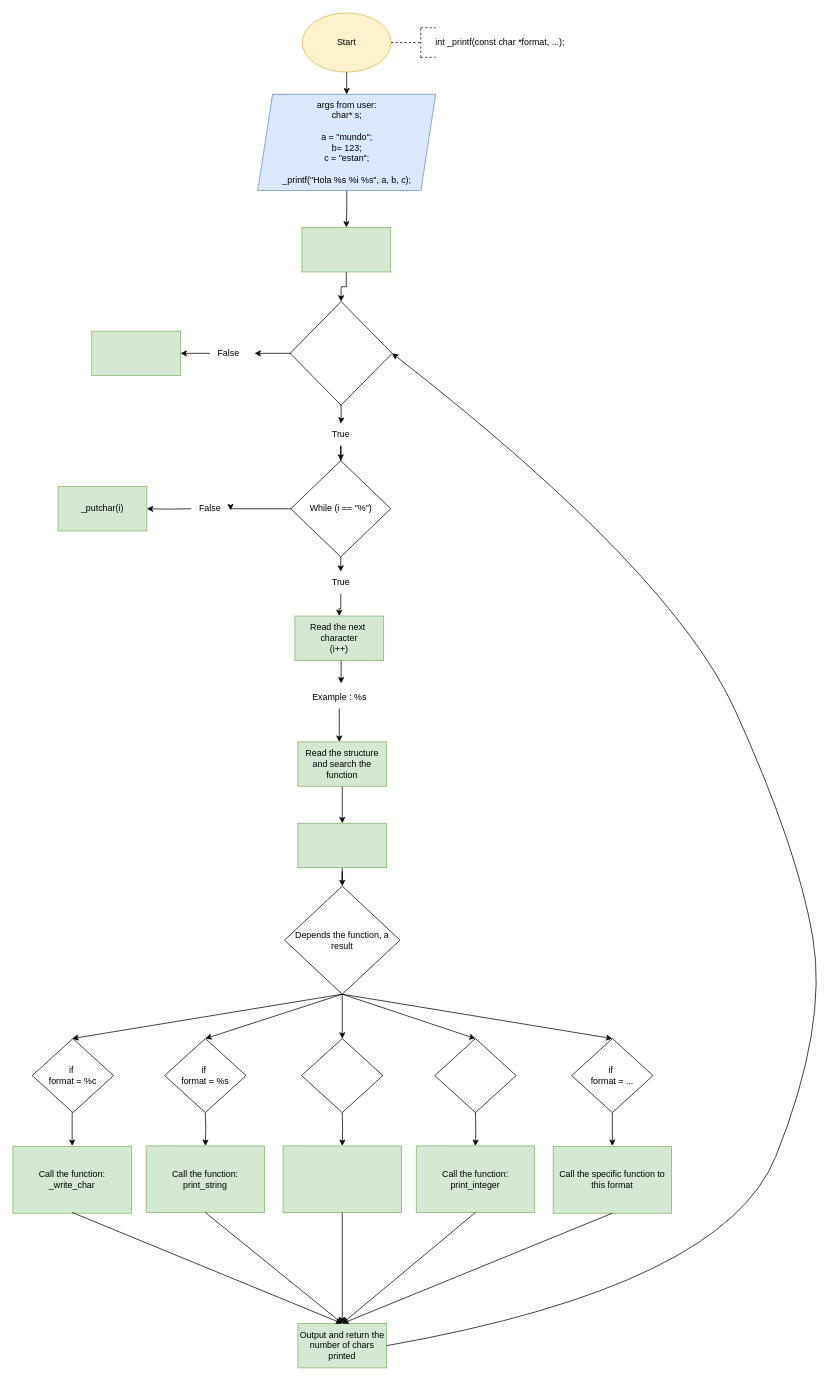
Image size: 830x1381. Some labels were removed from this diagram. The shapes that lost their labels are listed below. From the top down, each one's box as (x1, y1, x2, y2) in pixels, then its label:
(301, 227, 391, 272): Start the reader (recording_error.c)
(91, 330, 181, 376): Stop
(289, 301, 392, 405): if (i != '\0')
(297, 823, 387, 868): Call the function and pass the args to the function
(301, 1038, 383, 1113): if format = %%
(434, 1038, 516, 1113): if format = %d
(282, 1145, 401, 1212): Call the function: _write_char and pass the % as a parameter
